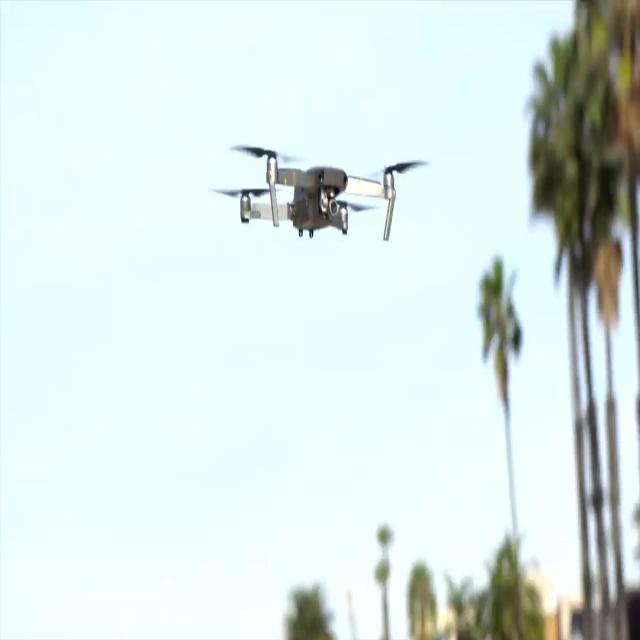UAV: (210, 145, 430, 242)
